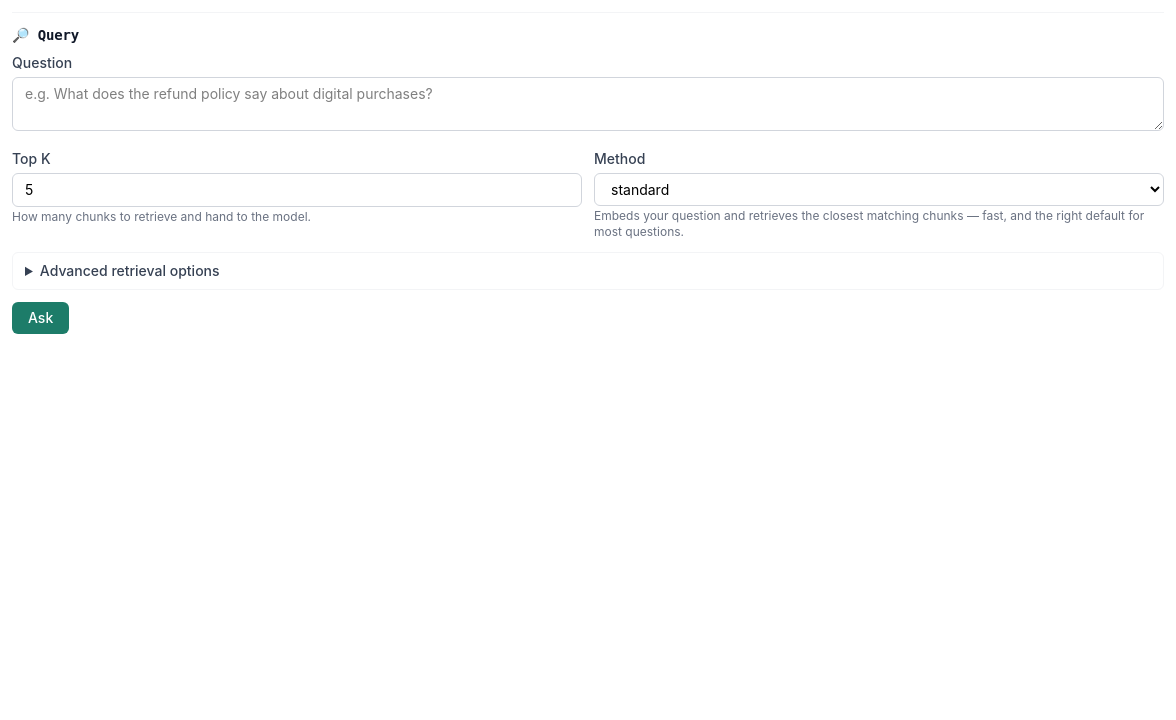
it: QueryPanel › accumulates turns and reuses one conversation_id in continue-conversation mode
The image size is (1176, 720).
Click the heading "Advanced retrieval options" at coordinates (130, 270), box [40,262,220,279]
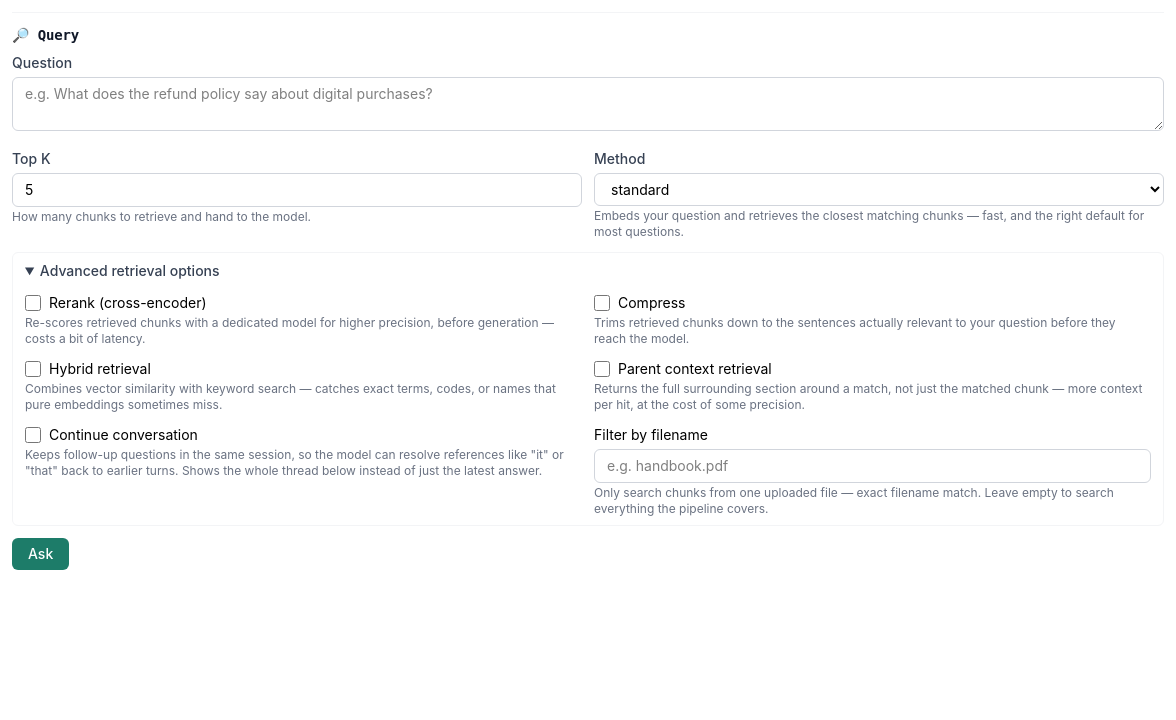
Click the checkbox labelled "Continue conversation" at coordinates (33, 435), box [25,427,41,443]
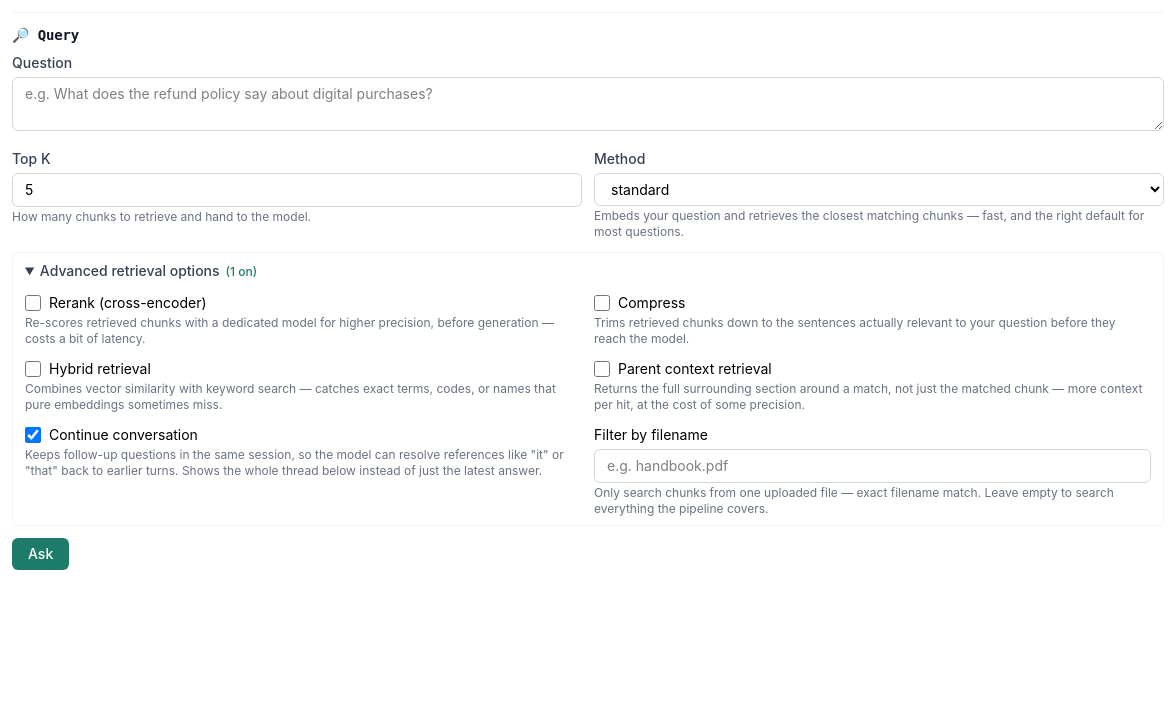
Replace the text in the text box labelled "Question" with "turn one" at coordinates (588, 104), box [12,77,1164,131]
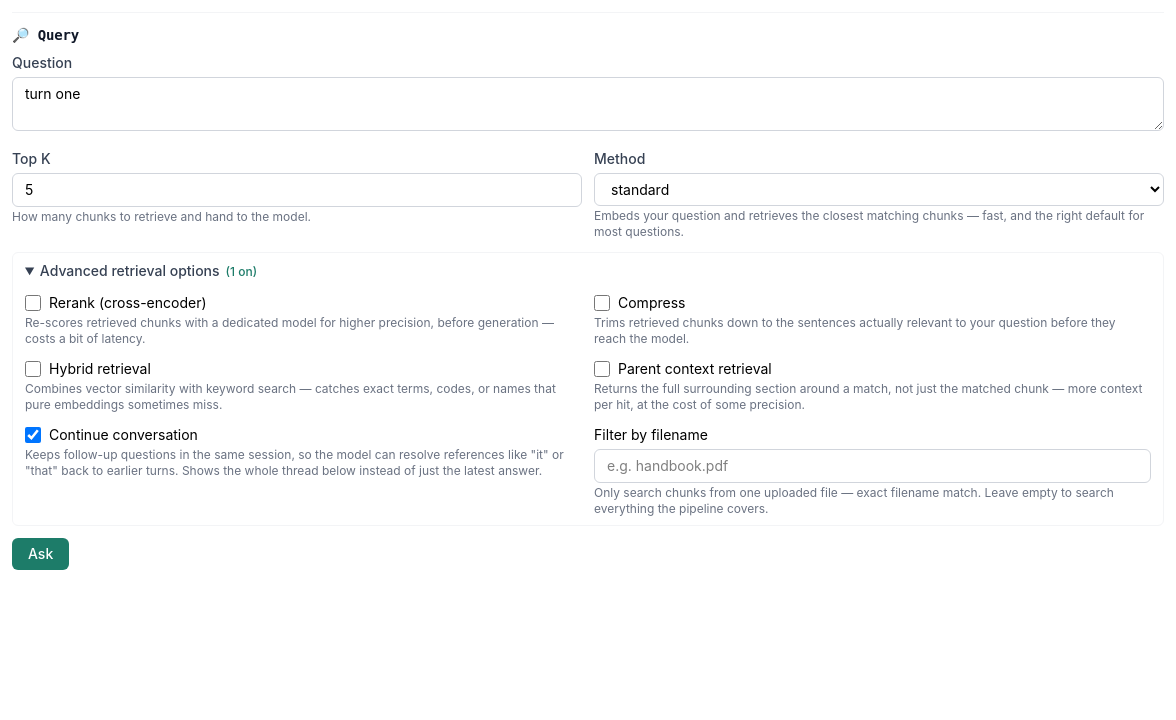
Click the button "Ask" at coordinates (41, 554), box [12,538,69,570]
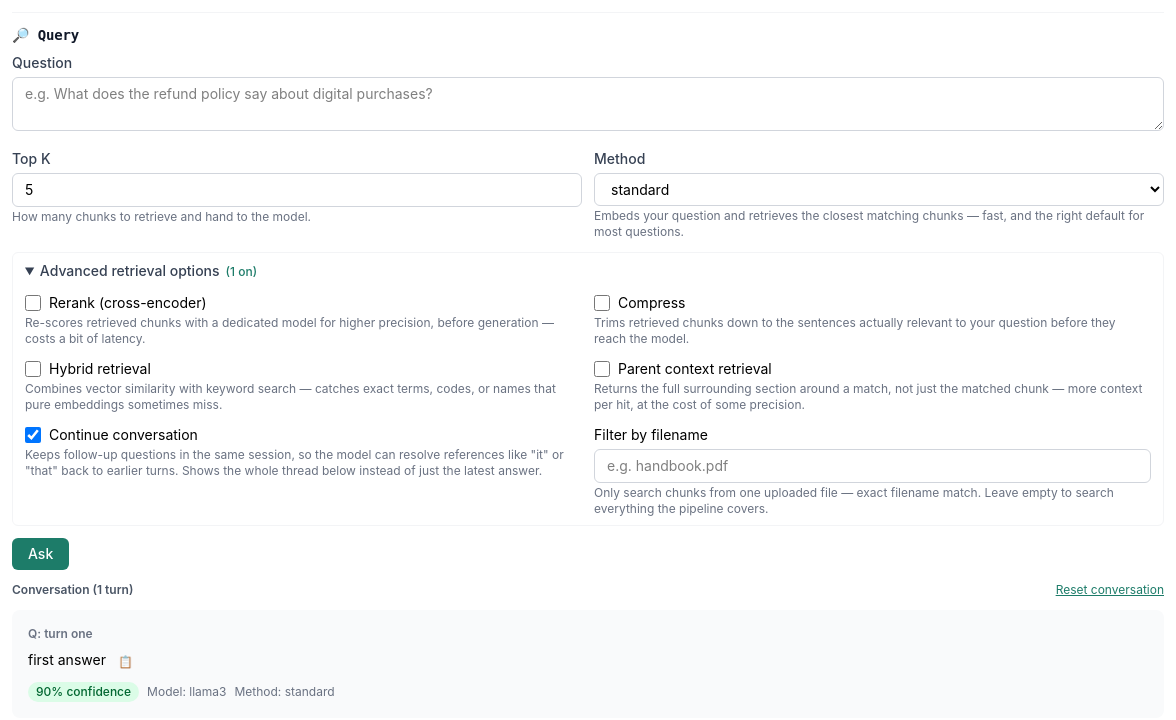
Now the text "Q: turn one" is shown, box [28,626,93,641]
Replace the text in the text box labelled "Question" with "turn two" at coordinates (588, 104), box [12,77,1164,131]
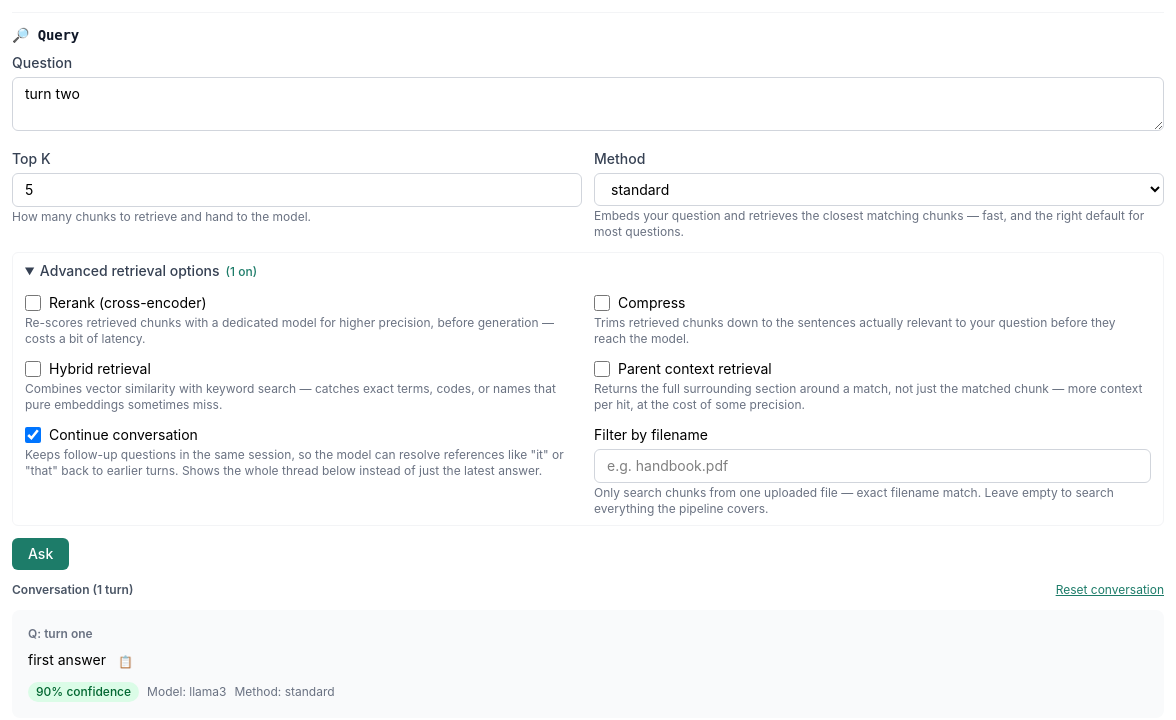
Click the button "Ask" at coordinates (41, 554), box [12,538,69,570]
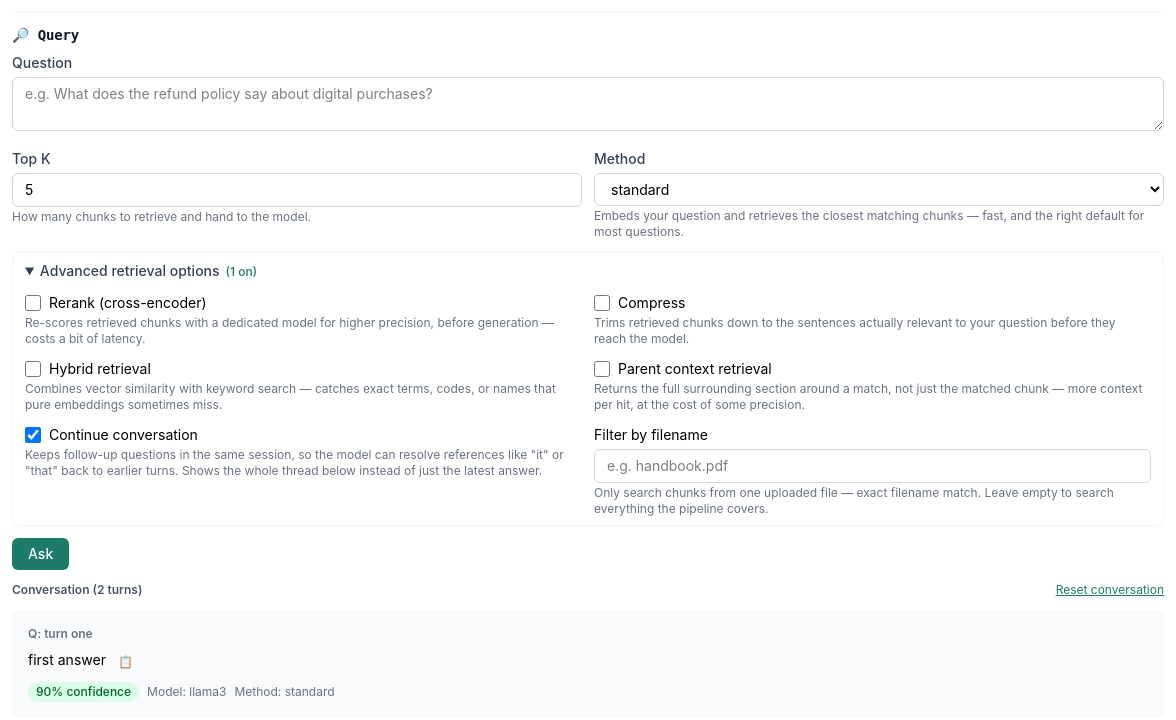
Now the text "Conversation (2 turns)" is shown, box [12,582,142,598]
Now the text box labelled "Question" is empty, box [12,77,1164,131]
